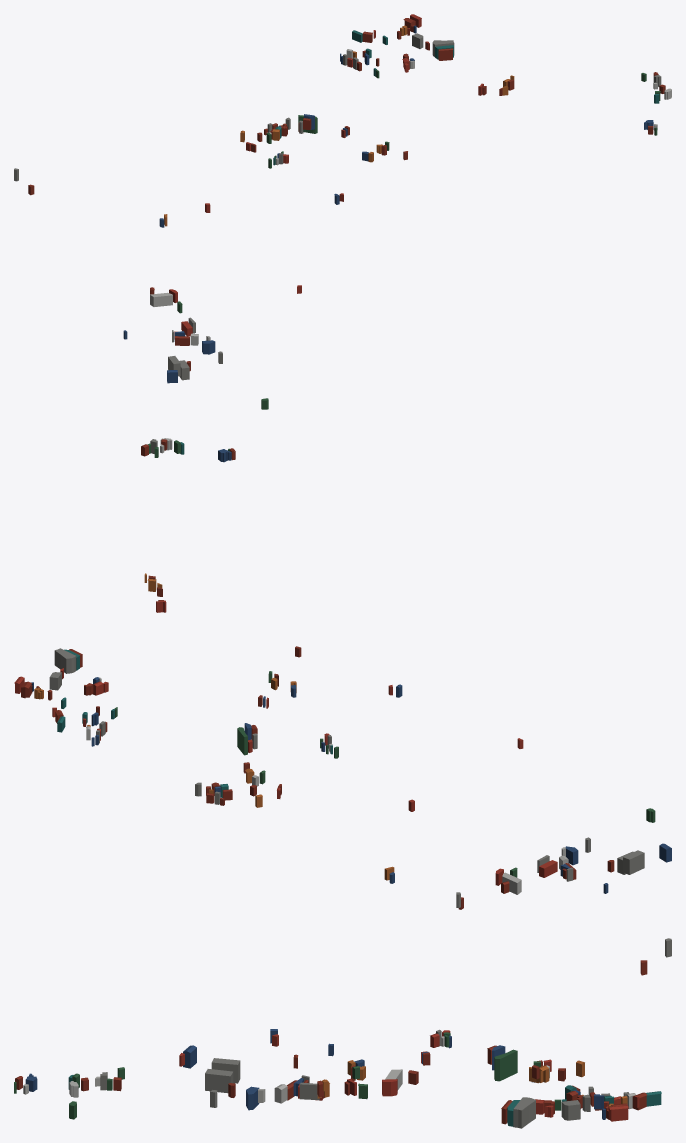
The model's file is near-15-27366-14862.26b1f9e1.glb.
The picture shows the model from 3 angles, top to bottom: view 1: azimuth 30°, elevation 25°; view 2: azimuth 150°, elevation 25°; view 3: azimuth 270°, elevation 25°; orthographic projection. The views are drawn at different scales.
Size of the model in its own units: 1142 by 531 by 960.
